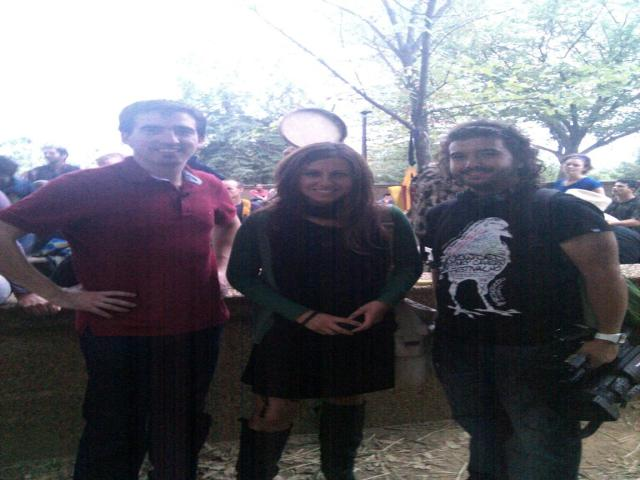Bird: (428, 216, 517, 319)
